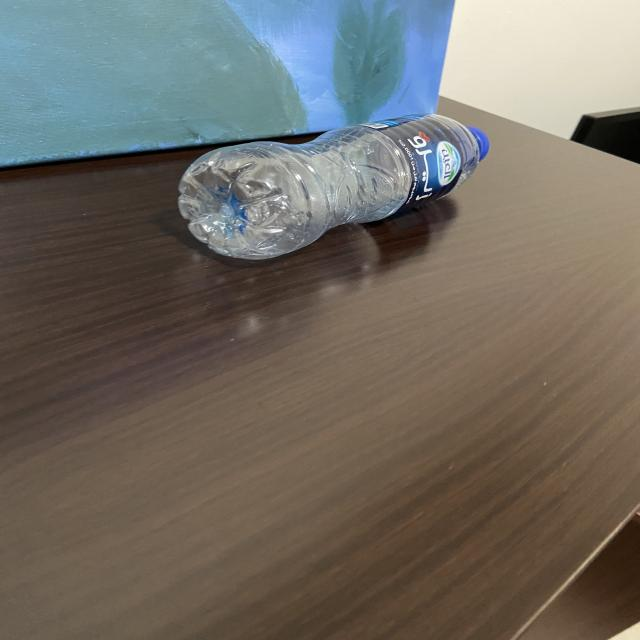bottle: (172, 110, 492, 264)
